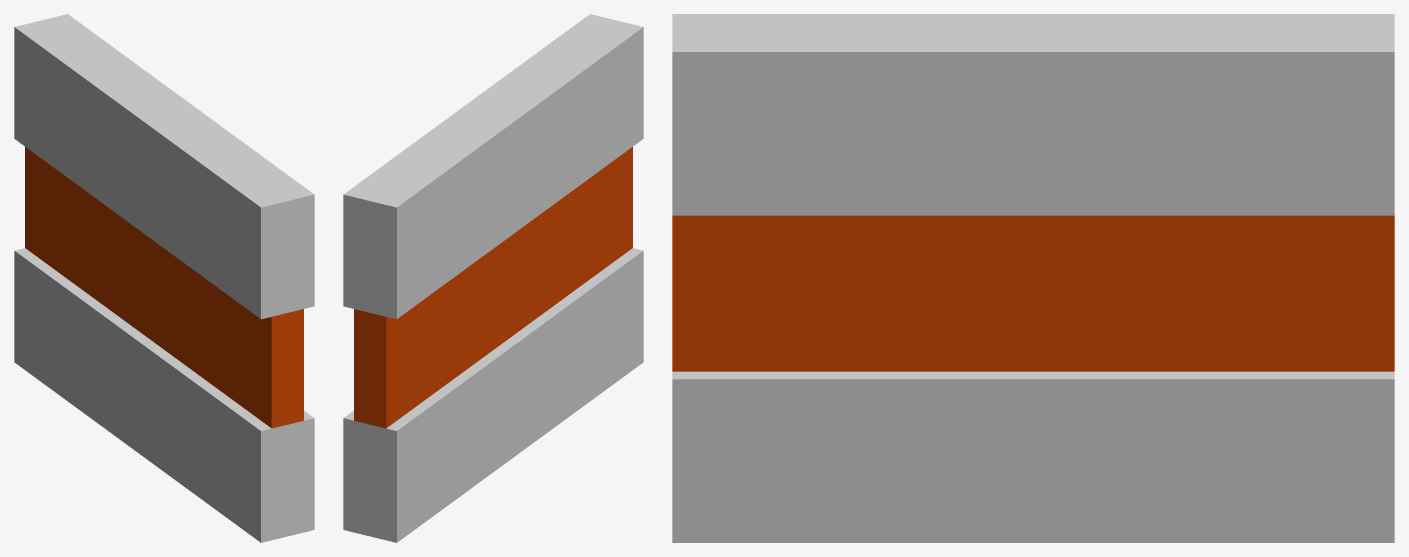
The model's file is OrangeDoor1.fbx.
3 renders of one model, left to right at view 1: azimuth 30°, elevation 25°; view 2: azimuth 150°, elevation 25°; view 3: azimuth 270°, elevation 25°, orthographic. The views are drawn at different scales.
Visible parts, largest first — view 1: Cube.001; view 2: Cube.001; view 3: Cube.001.
Boxes of the visible parts, bbox=[...] form: Cube.001: bbox=[14, 14, 314, 542]; Cube.001: bbox=[343, 14, 643, 542]; Cube.001: bbox=[672, 14, 1394, 542].
Size of the model in its own units: 400 by 50 by 300.
